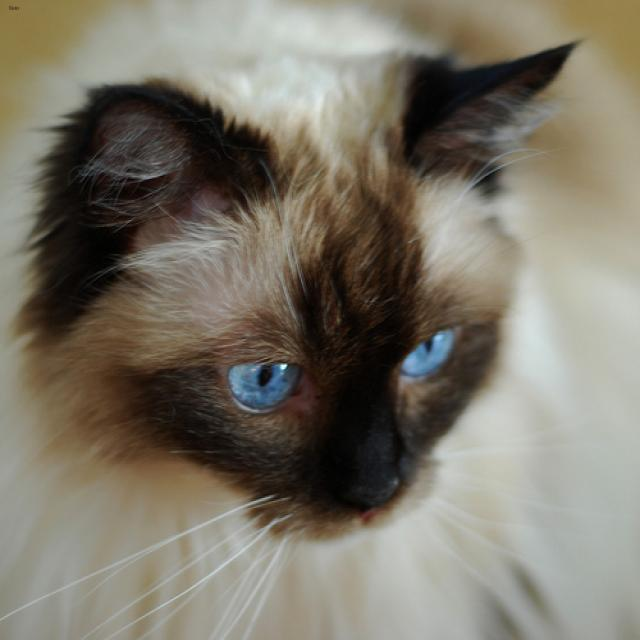Birman: (20, 31, 589, 563)
